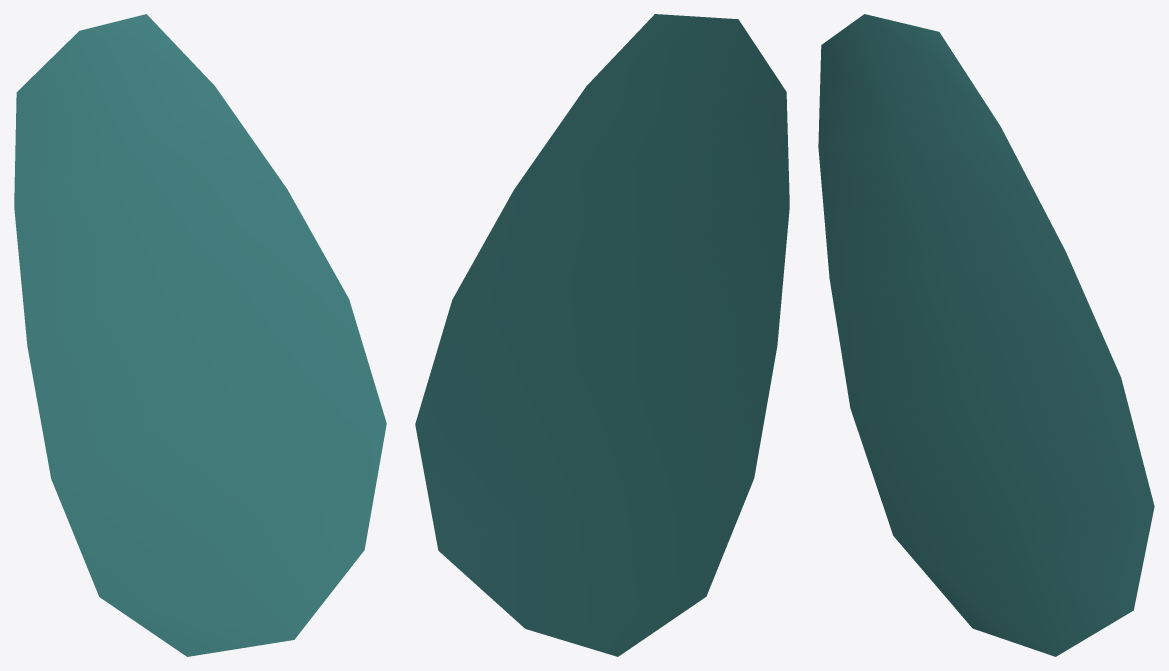
File: budgie_feather_flight_tertiary_021.obj
3 views of the same model, side by side, from view 1: azimuth 30°, elevation 25°; view 2: azimuth 150°, elevation 25°; view 3: azimuth 330°, elevation 25° (orthographic). The views are drawn at different scales.
Parts seen in each view (by area): view 1: feather_flight_tertiary_021; view 2: feather_flight_tertiary_021; view 3: feather_flight_tertiary_021.
Part boxes in pixels (x1,y1,x2,y2): feather_flight_tertiary_021: [14, 14, 386, 656]; feather_flight_tertiary_021: [415, 14, 789, 656]; feather_flight_tertiary_021: [818, 14, 1154, 656].
Size of the model in its own units: 0.00894 by 0.0151 by 0.00039.
